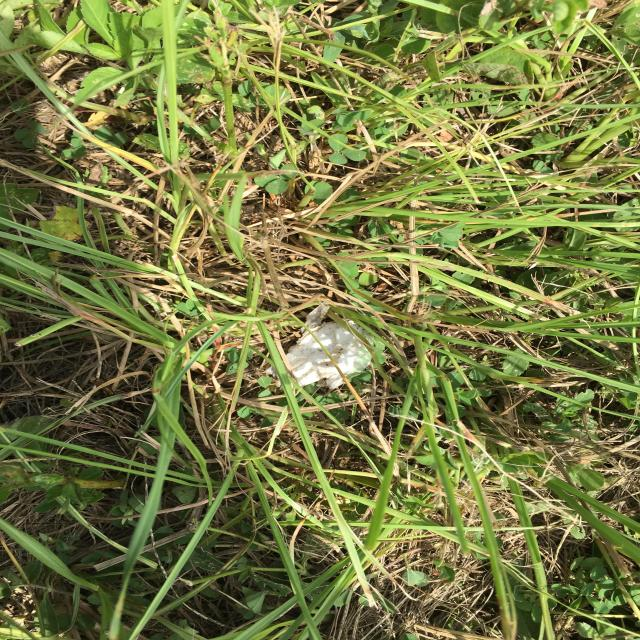litter: (263, 302, 387, 390)
